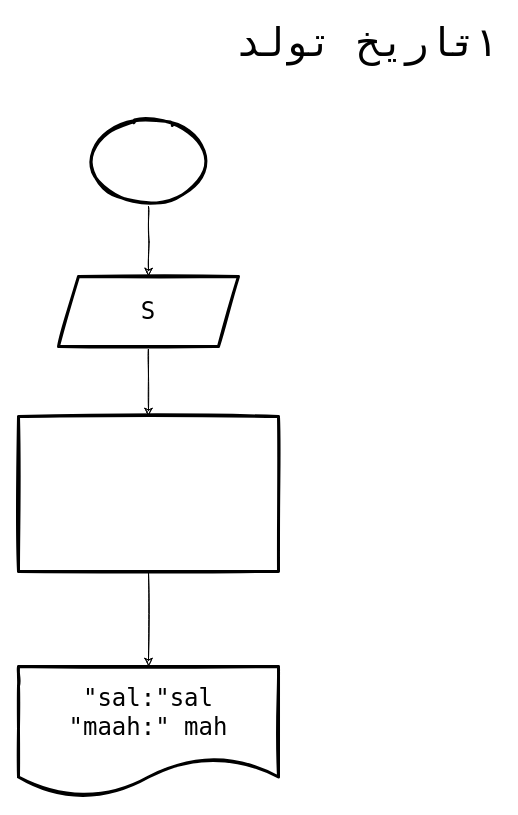
This 518x815 diagram has some shape labels left out. Here are the shapes that lost their labels. From the top down, the centre of each, then its label:
(x=148, y=161): شروع
(x=148, y=493): S mod 100 => mah S / 100 => sal
